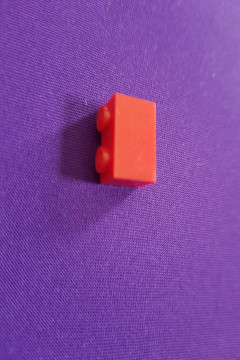1x2 red: (92, 92, 157, 189)
